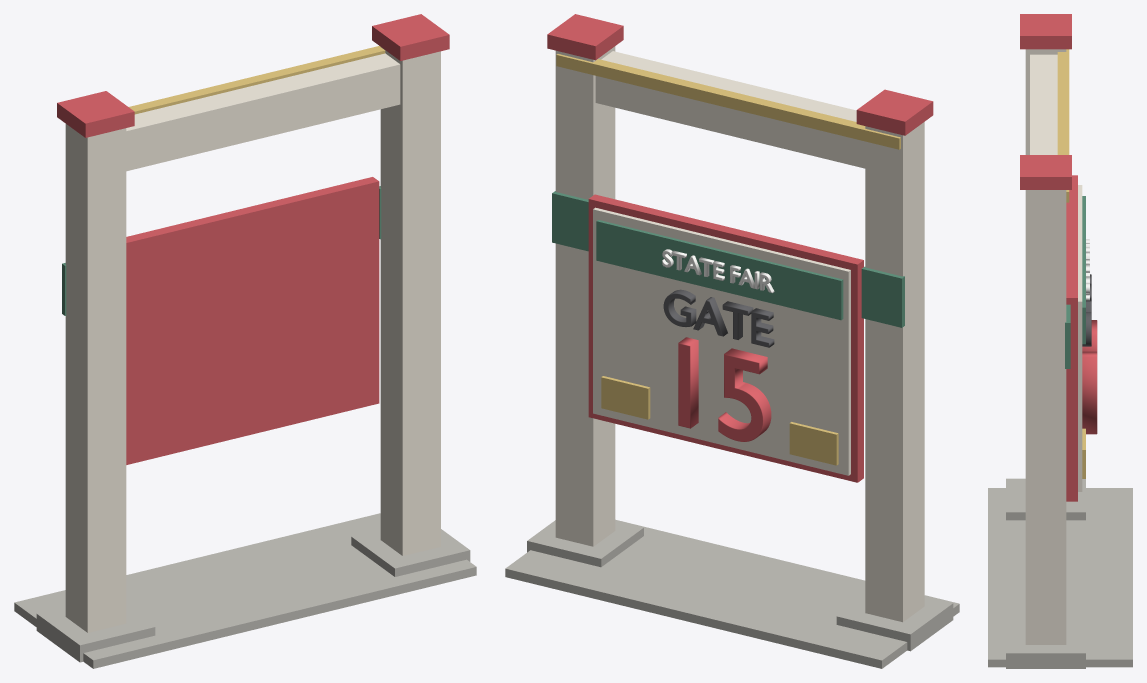
The model's file is state-fair-gate-15.glb.
3 views of the same model, side by side, from view 1: azimuth 30°, elevation 25°; view 2: azimuth 150°, elevation 25°; view 3: azimuth 270°, elevation 25° (orthographic). The views are drawn at different scales.
Visible parts, largest first — view 1: SFG_SignBack, SFG_PostL, SFG_PostR, SFG_Pad, SFG_HeaderBeam, SFG_FootingL, SFG_FootingR, SFG_PostCapL, SFG_PostCapR, SFG_HeaderAccent; view 2: SFG_SignFace, SFG_PostL, SFG_Pad, SFG_PostR, SFG_HeaderBeam, SFG_Ribbon, SFG_SignBack, SFG_HeaderAccent, SFG_GateNumber, SFG_FootingL, SFG_GateLabel, SFG_FootingR (+7 smaller); view 3: SFG_PostR, SFG_Pad, SFG_SignBack, SFG_FootingR, SFG_HeaderBeam, SFG_PostCapL, SFG_PostCapR, SFG_GateNumber, SFG_SignFace, SFG_HeaderAccent, SFG_FootingL, SFG_PostL (+4 smaller).
Part boxes in pixels (box(x1,y1,x2,y2)): SFG_SignBack: box(126, 177, 379, 464); SFG_PostL: box(65, 124, 126, 632); SFG_PostR: box(380, 47, 440, 555); SFG_Pad: box(14, 513, 476, 668); SFG_HeaderBeam: box(126, 53, 400, 171); SFG_FootingL: box(36, 606, 155, 662); SFG_FootingR: box(351, 529, 470, 576); SFG_PostCapL: box(57, 91, 134, 137); SFG_PostCapR: box(372, 14, 449, 60); SFG_HeaderAccent: box(129, 46, 385, 114); SFG_SignFace: box(593, 207, 850, 475); SFG_PostL: box(865, 122, 924, 622); SFG_Pad: box(505, 519, 959, 668); SFG_PostR: box(555, 46, 615, 546); SFG_HeaderBeam: box(595, 51, 865, 168); SFG_Ribbon: box(596, 220, 843, 320); SFG_SignBack: box(588, 194, 863, 482); SFG_HeaderAccent: box(556, 54, 900, 149); SFG_GateNumber: box(678, 337, 771, 441); SFG_FootingL: box(836, 596, 953, 651); SFG_GateLabel: box(663, 289, 774, 347); SFG_FootingR: box(527, 520, 643, 567); SFG_PostR: box(1025, 190, 1066, 644); SFG_Pad: box(988, 488, 1132, 667); SFG_SignBack: box(1066, 175, 1077, 501); SFG_FootingR: box(1006, 619, 1085, 668); SFG_HeaderBeam: box(1030, 54, 1057, 154); SFG_PostCapL: box(1020, 14, 1071, 49); SFG_PostCapR: box(1020, 155, 1071, 189); SFG_GateNumber: box(1082, 320, 1097, 434); SFG_SignFace: box(1078, 185, 1082, 491); SFG_HeaderAccent: box(1057, 49, 1069, 202); SFG_FootingL: box(1006, 478, 1085, 520); SFG_PostL: box(1025, 49, 1066, 154).
Size of the model in its own units: 2.85 by 3.7 by 1.
